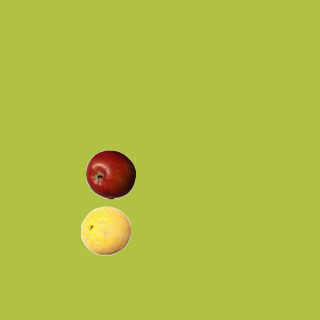Apple Braeburn: (85, 149, 135, 199)
Cantaloupe 1: (80, 205, 130, 255)
